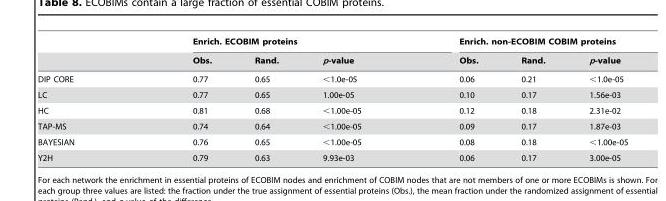table: (37, 36, 627, 162)
table column: (299, 36, 409, 162), (132, 36, 232, 162), (37, 36, 132, 162), (409, 36, 499, 162), (232, 36, 299, 162), (499, 36, 566, 162), (566, 36, 627, 162)
table column header: (37, 36, 627, 69)
table row: (37, 50, 627, 69), (37, 69, 627, 86), (37, 86, 627, 102), (37, 102, 627, 118), (37, 118, 627, 134), (37, 134, 627, 149), (37, 36, 627, 50), (37, 149, 627, 162)
table spanning cell: (132, 36, 409, 50), (409, 36, 627, 50)
